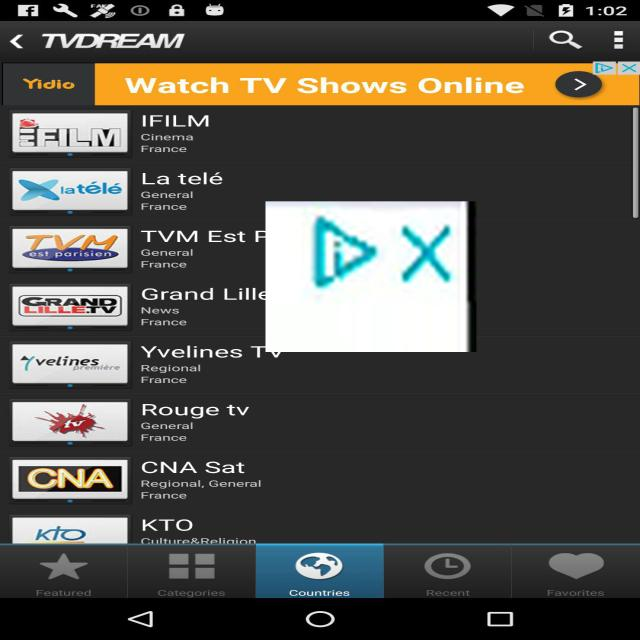sneaking: (266, 201, 477, 352)
